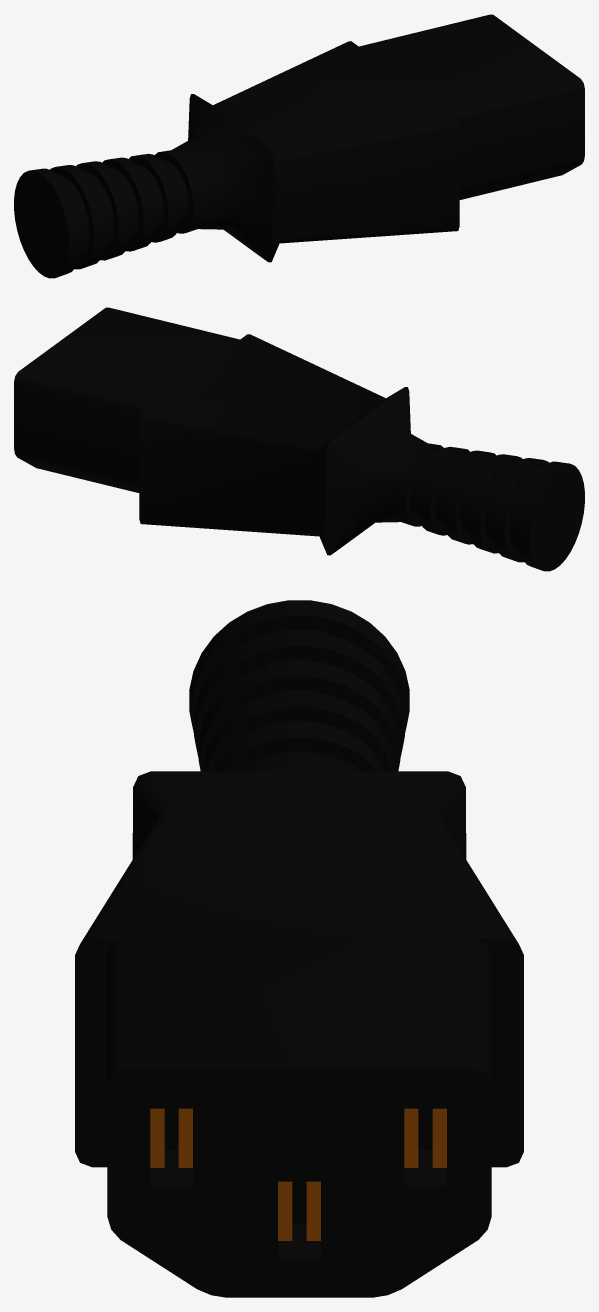
The model's file is Power Cable End.fbx.
3 renders of one model, top to bottom at view 1: azimuth 30°, elevation 25°; view 2: azimuth 150°, elevation 25°; view 3: azimuth 270°, elevation 25°, orthographic. The views are drawn at different scales.
Parts seen in each view (by area): view 1: IEC C13; view 2: IEC C13; view 3: IEC C13.
Part boxes in pixels (x1,y1,x2,y2): IEC C13: (14,14,584,278); IEC C13: (14,307,584,571); IEC C13: (75,600,523,1297).
Size of the model in its own units: 27.5 by 6.06 by 10.79.
